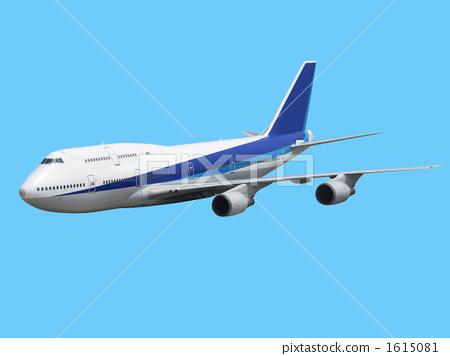airplane: (17, 66, 442, 223)
